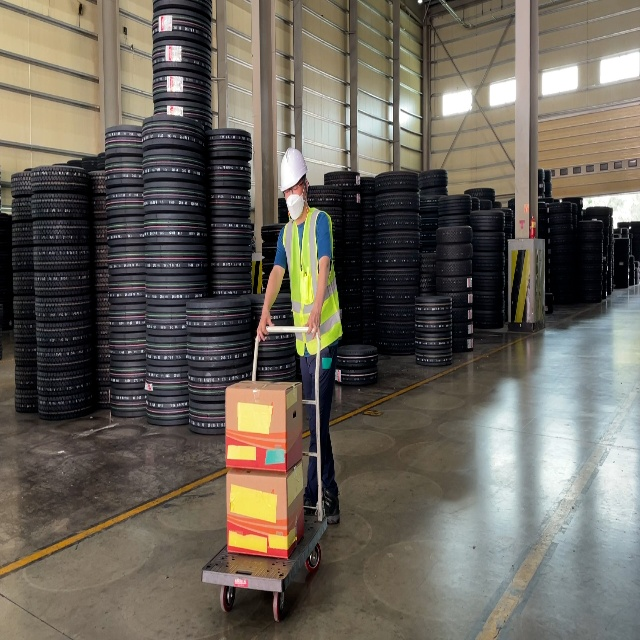Box: (226, 460, 304, 560), (224, 379, 303, 473)
Worker: (256, 146, 343, 525)
